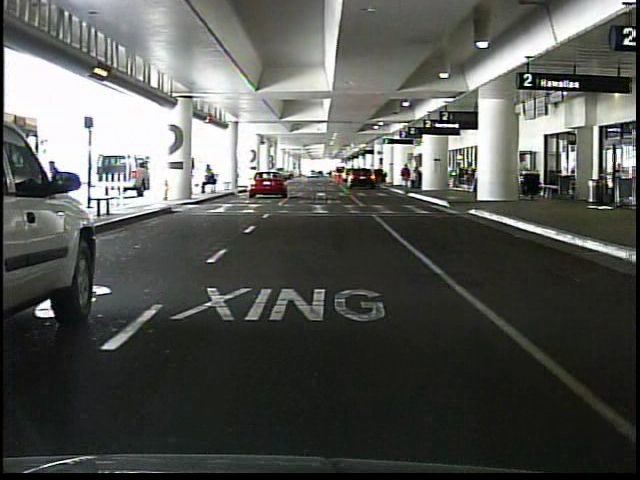person: (49, 157, 78, 219), (202, 166, 221, 195), (401, 163, 414, 192)
